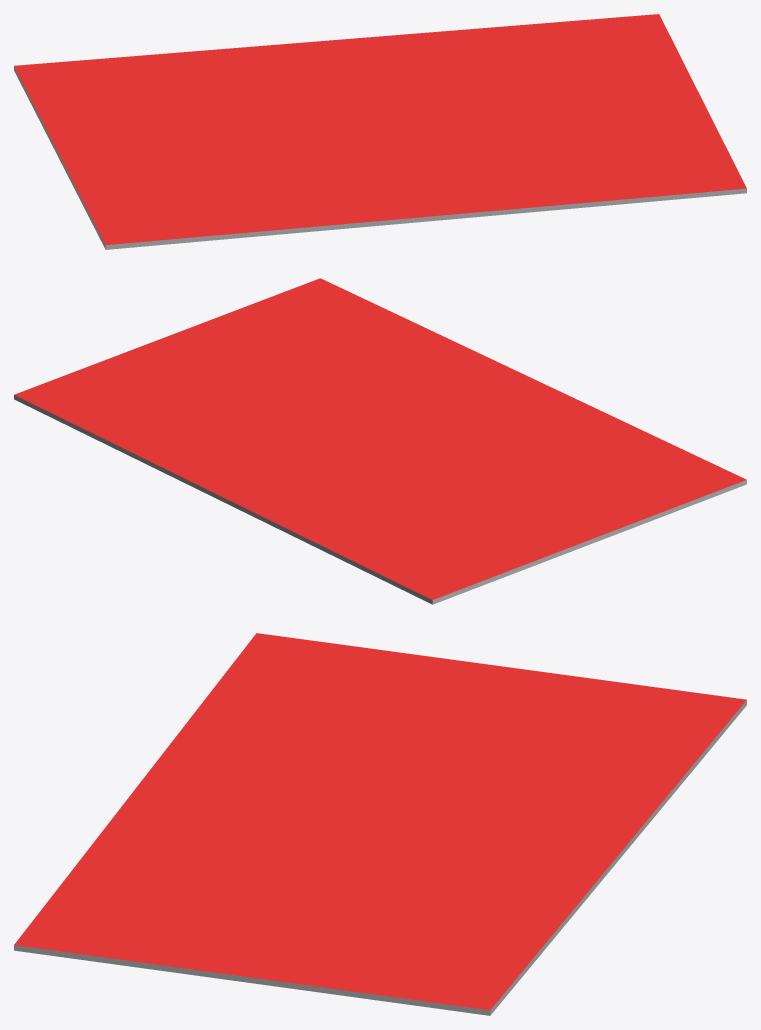
File: DEBE3D01YYK0003TjE.dae
The picture shows the model from 3 angles, top to bottom: view 1: azimuth 30°, elevation 25°; view 2: azimuth 150°, elevation 25°; view 3: azimuth 270°, elevation 25°; orthographic projection. The views are drawn at different scales.
Bounding box in the file's own units: 10.21 × 8.38 × 0.071.
